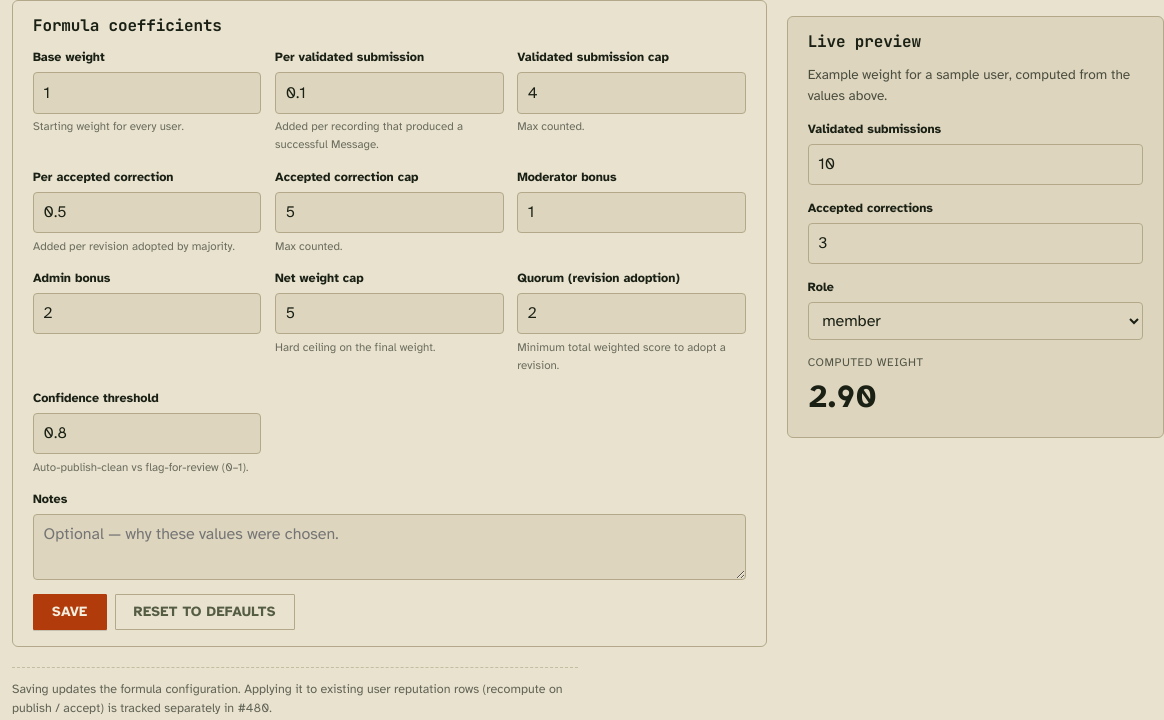
ReputationConfigEditor › updates the preview when a coefficient changes
Step 1. Replace the text in the number field labelled "Base weight" with "2" → (147, 93), box [33, 72, 262, 114]
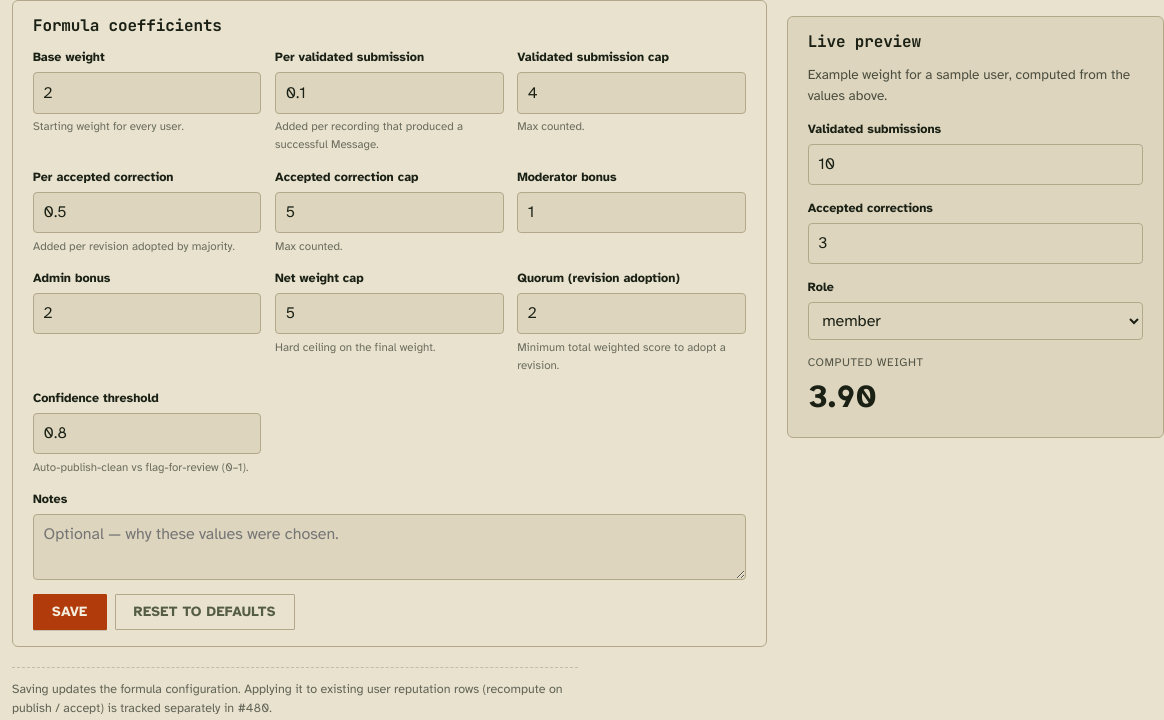
Check: the text with test id "preview-weight" reads "3.90", box [808, 377, 876, 416]
